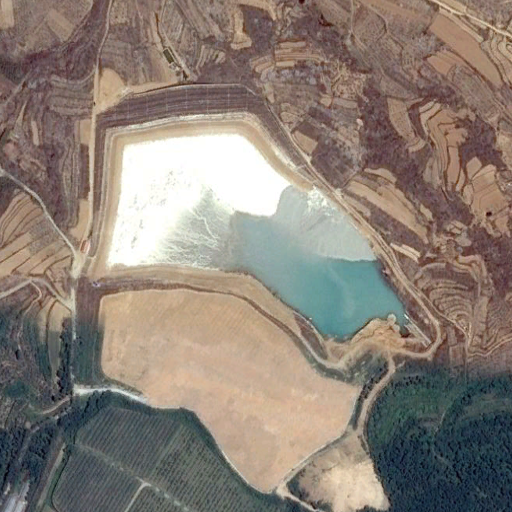tp: (94, 123, 416, 336)
